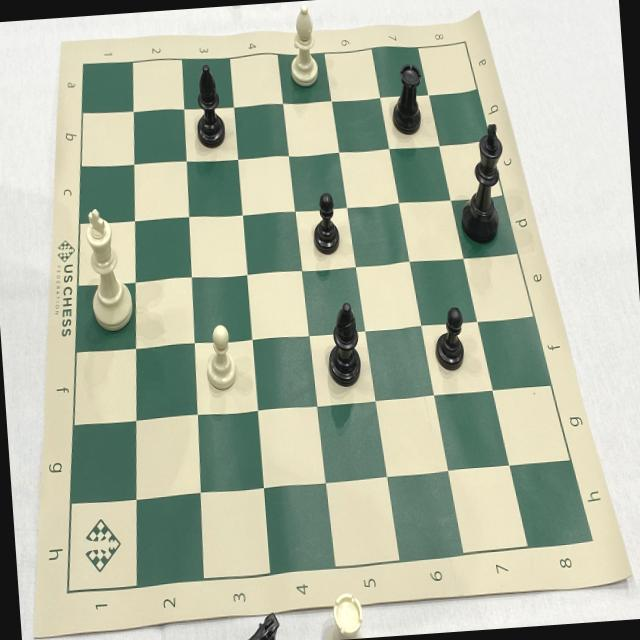black-bishop: (316, 293, 371, 393), (188, 58, 234, 156)
black-king: (451, 113, 511, 255)
black-pawn: (426, 298, 468, 378), (304, 185, 348, 261)
black-rook: (384, 57, 430, 139)
white-bishop: (285, 0, 330, 92)
white-king: (78, 189, 144, 341)
white-pawn: (200, 314, 246, 394)
